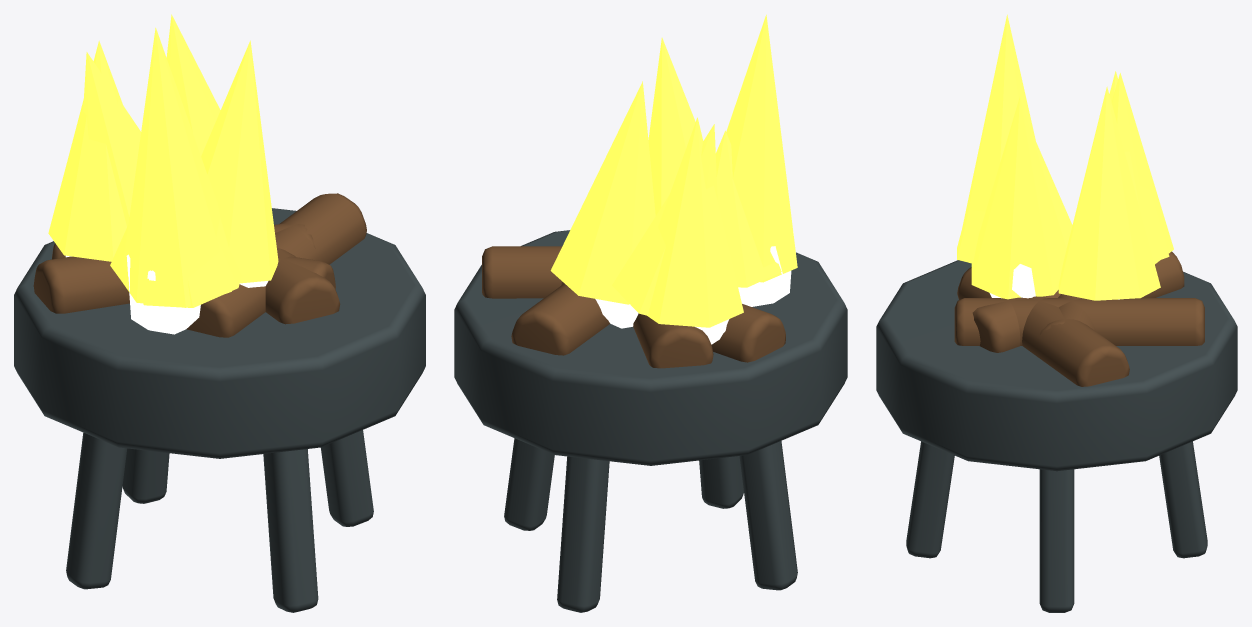
Rendered from SM_ShelteredBrazierFire.fbx.
The picture shows the model from 3 angles, left to right: view 1: azimuth 30°, elevation 25°; view 2: azimuth 150°, elevation 25°; view 3: azimuth 270°, elevation 25°; orthographic projection. The views are drawn at different scales.
Parts seen in each view (by area): view 1: Brazier bowl, Stylized flame.005, Stylized flame.002, Stylized flame, Brazier leg.003, Burning log.003, Brazier leg.002, Burning log.002, Stylized flame.006, Brazier leg, Burning log, Stylized flame.004 (+4 smaller); view 2: Brazier bowl, Stylized flame.004, Stylized flame, Stylized flame.005, Brazier leg.001, Brazier leg.002, Stylized flame.002, Burning log, Burning log.003, Stylized flame.003, Stylized flame.006, Brazier leg (+5 smaller); view 3: Brazier bowl, Stylized flame.004, Stylized flame.002, Burning log, Burning log.003, Brazier leg, Stylized flame.005, Brazier leg.001, Brazier leg.003, Burning log.001, Stylized flame, Stylized flame.006 (+4 smaller).
Part boxes in pixels (<box>): Brazier bowl: <box>14,208,425,458</box>; Stylized flame.005: <box>123,27,231,307</box>; Stylized flame.002: <box>201,40,278,283</box>; Stylized flame: <box>48,40,126,261</box>; Brazier leg.003: <box>263,449,318,612</box>; Burning log.003: <box>186,193,366,337</box>; Brazier leg.002: <box>66,432,127,589</box>; Burning log.002: <box>33,223,315,313</box>; Stylized flame.006: <box>83,52,140,226</box>; Brazier leg: <box>321,430,373,526</box>; Burning log: <box>265,247,340,324</box>; Stylized flame.004: <box>166,14,220,155</box>; Brazier bowl: <box>454,230,847,465</box>; Stylized flame.004: <box>550,81,655,304</box>; Stylized flame: <box>647,117,743,327</box>; Stylized flame.005: <box>726,14,797,282</box>; Brazier leg.001: <box>557,456,609,612</box>; Brazier leg.002: <box>739,441,797,590</box>; Stylized flame.002: <box>648,37,695,215</box>; Burning log: <box>511,283,609,355</box>; Burning log.003: <box>482,246,562,298</box>; Stylized flame.003: <box>715,130,781,287</box>; Stylized flame.006: <box>612,124,717,315</box>; Brazier leg: <box>504,438,554,530</box>; Brazier bowl: <box>876,260,1237,471</box>; Stylized flame.004: <box>1058,86,1160,300</box>; Stylized flame.002: <box>971,96,1066,299</box>; Burning log: <box>954,298,1204,345</box>; Burning log.003: <box>957,267,1129,386</box>; Brazier leg: <box>1039,469,1074,612</box>; Stylized flame.005: <box>962,14,1035,263</box>; Brazier leg.001: <box>1159,441,1207,558</box>; Brazier leg.003: <box>906,441,954,558</box>; Burning log.001: <box>972,251,1184,352</box>; Stylized flame: <box>1111,73,1173,264</box>; Stylized flame.006: <box>1109,71,1169,262</box>.
Size of the model in its own units: 94 by 144 by 94.
